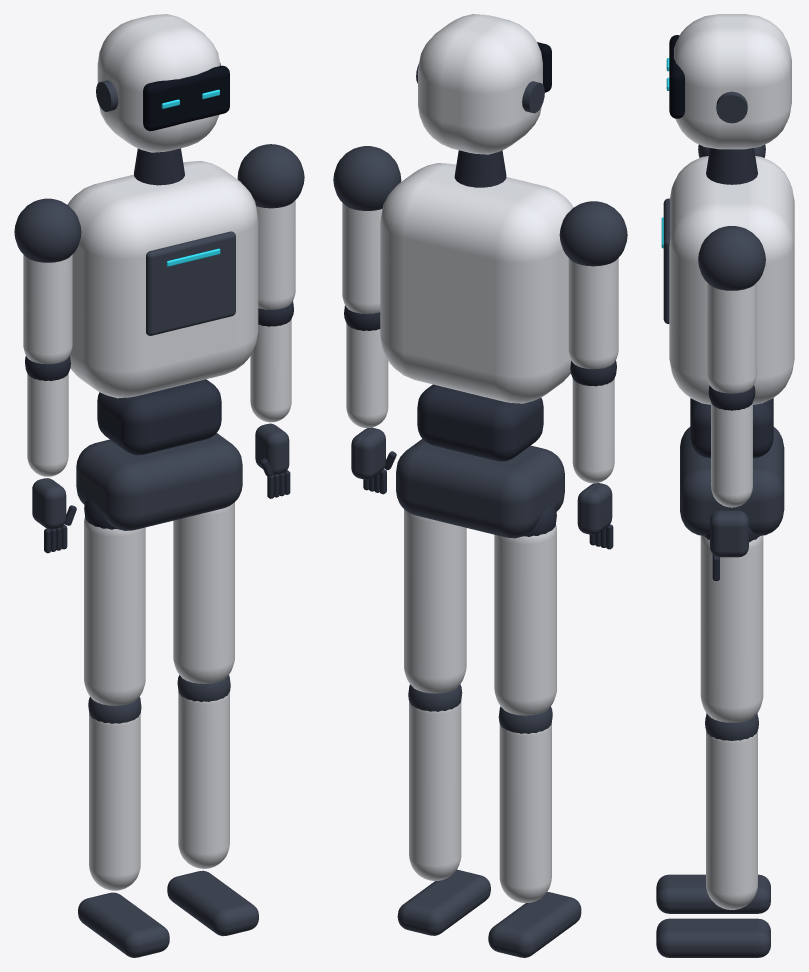
Rendered from humanoid.glb.
3 views of the same model, side by side, from view 1: azimuth 30°, elevation 25°; view 2: azimuth 150°, elevation 25°; view 3: azimuth 270°, elevation 25° (orthographic).
Parts seen in each view (by area): view 1: torsoShell, pelvisShell, thighL, thighR, headShell, shinL, shinR, chestPlate, waist, upperArmL, forearmL, visor (+12 smaller); view 2: torsoShell, headShell, pelvisShell, thighL, thighR, shinL, shinR, waist, upperArmL, forearmL, upperArmR, forearmR (+11 smaller); view 3: torsoShell, headShell, thighR, shinR, pelvisShell, upperArmR, footR, forearmR, shoulderR, footL, waist, handR (+6 smaller).
Boxes of the visible parts, x1,y1,x2,y2 form: torsoShell: [67, 161, 258, 398]; pelvisShell: [76, 433, 242, 530]; thighL: [84, 517, 145, 705]; thighR: [173, 502, 234, 683]; headShell: [97, 14, 220, 152]; shinL: [89, 714, 140, 890]; shinR: [178, 691, 229, 868]; chestPlate: [146, 231, 235, 335]; waist: [97, 379, 221, 455]; upperArmL: [23, 254, 72, 364]; forearmL: [27, 373, 68, 476]; visor: [143, 65, 229, 131]; torsoShell: [380, 163, 573, 403]; headShell: [418, 14, 542, 154]; pelvisShell: [396, 439, 564, 538]; thighL: [494, 524, 556, 715]; thighR: [404, 509, 466, 693]; shinL: [499, 724, 551, 902]; shinR: [409, 702, 461, 880]; waist: [417, 384, 543, 461]; upperArmL: [568, 258, 618, 369]; forearmL: [572, 378, 614, 483]; upperArmR: [342, 203, 382, 314]; forearmR: [346, 323, 388, 427]; torsoShell: [669, 156, 794, 404]; headShell: [674, 14, 791, 149]; thighR: [700, 535, 763, 722]; shinR: [706, 730, 757, 909]; pelvisShell: [680, 427, 784, 535]; upperArmR: [707, 282, 756, 393]; footR: [656, 918, 770, 957]; forearmR: [711, 402, 752, 507]; shoulderR: [698, 226, 765, 290]; footL: [656, 874, 770, 913]; waist: [690, 398, 773, 458]; handR: [710, 510, 748, 557].
Bounding box in the file's own units: 0.63 × 1.92 × 0.265.
